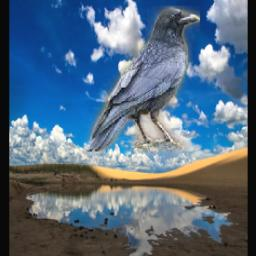Crow: (85, 6, 200, 152)
